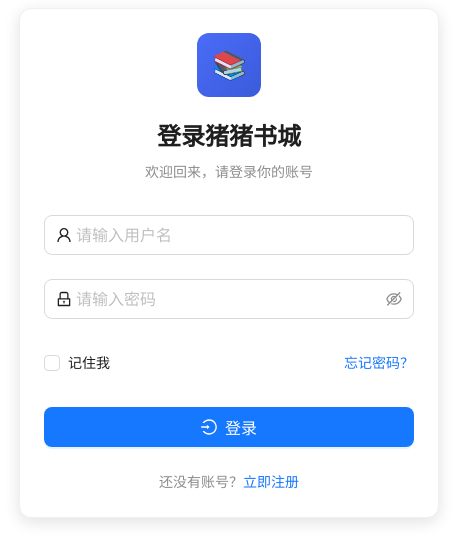
Test: LoginPage › 未输入用户名时点击登录显示校验提示
Click the button "登录": (229, 427) [44,407,414,447]
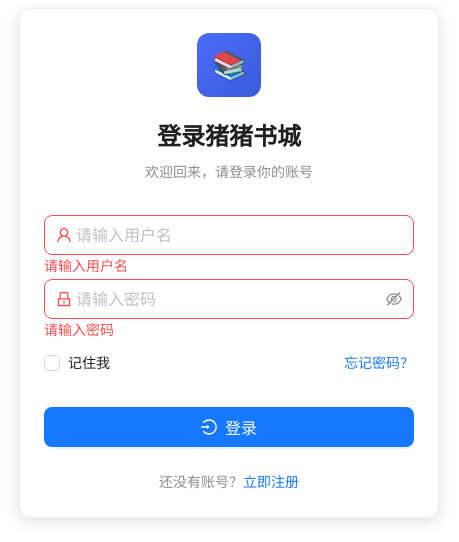
Check: the text "请输入用户名" is shown, box [44,257,128,274]
